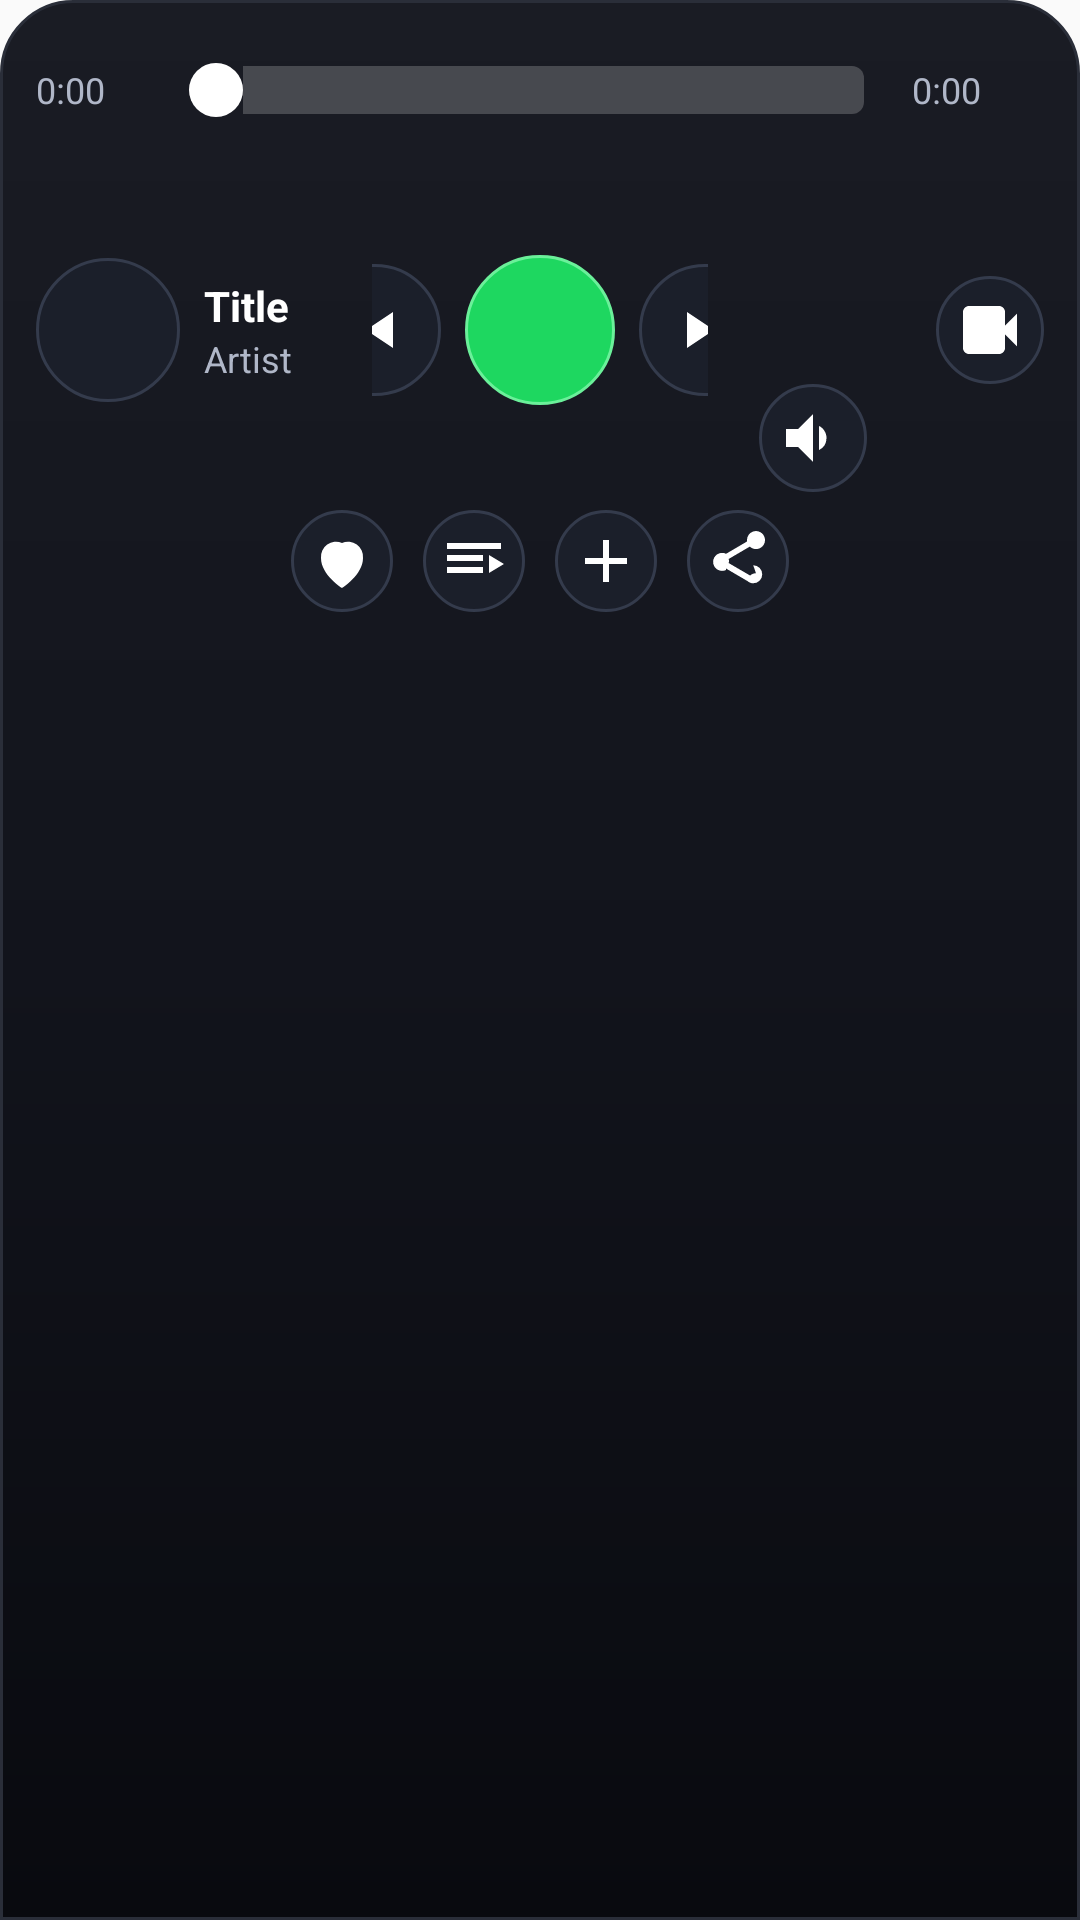

Icons on this 1080px x 1920px Android screen, each with the point to tap as [x,y]:
Add: [606,561]
Like: [342,561]
Queue: [474,561]
Share: [738,561]
Volume: [813,438]
